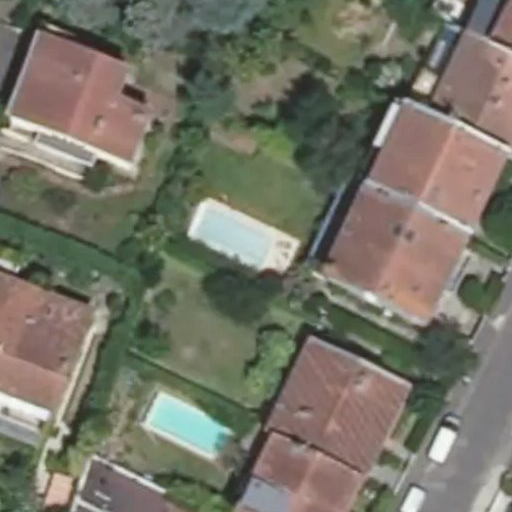pool: (148, 396, 229, 457), (197, 210, 271, 263)
